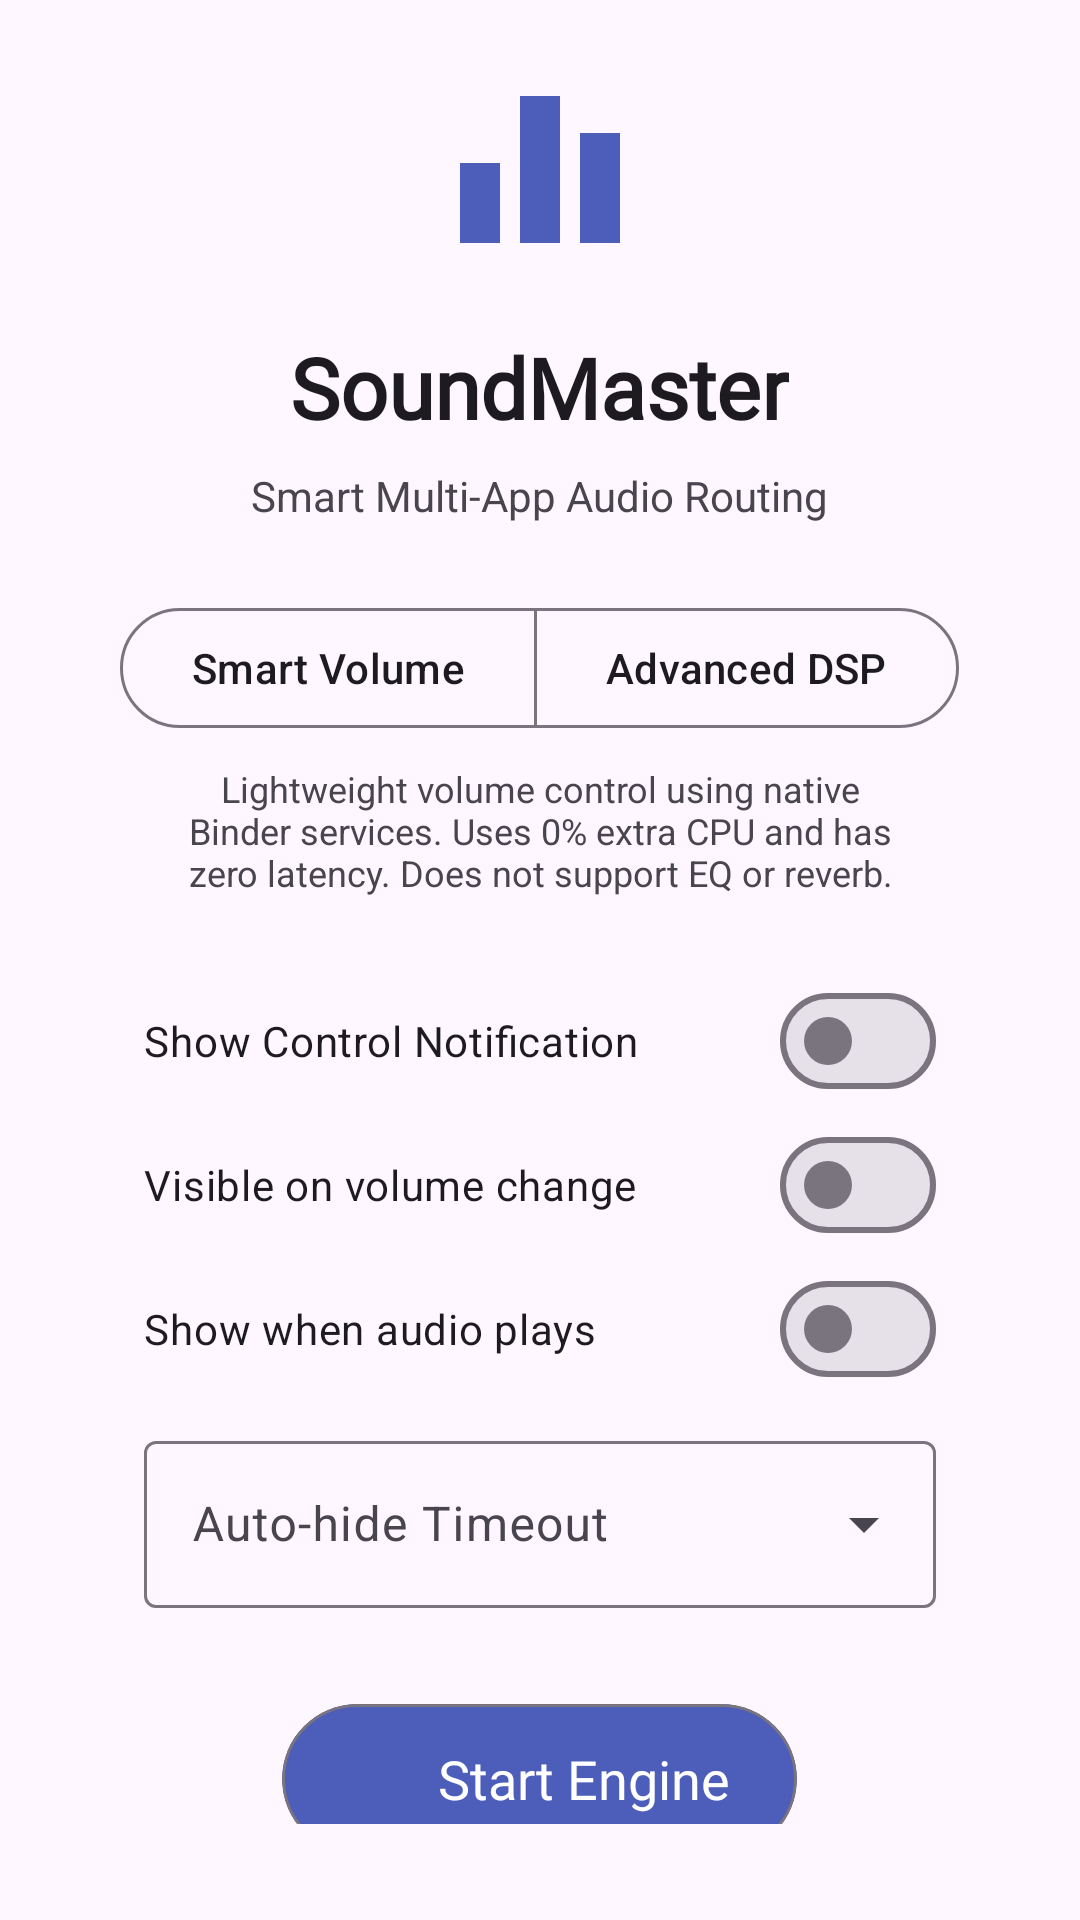

Point at icon controls on the screen. Image size 1080px×1920px, points as point (x, y).
equalizer: point (540, 169)
